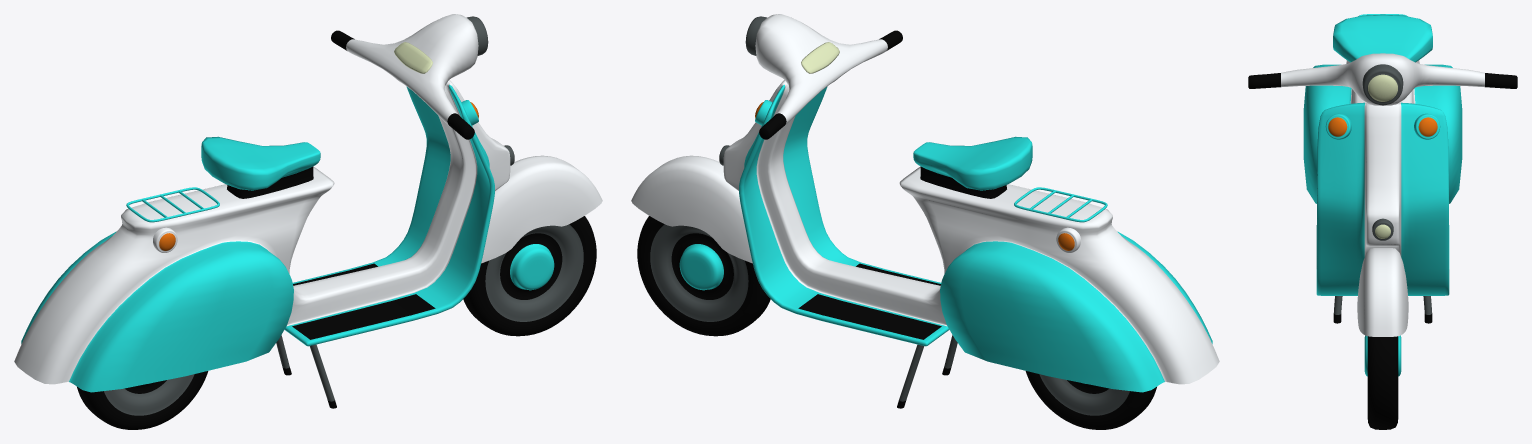
File: Scooter.fbx
The picture shows the model from 3 angles, left to right: view 1: azimuth 30°, elevation 25°; view 2: azimuth 150°, elevation 25°; view 3: azimuth 270°, elevation 25°; orthographic projection.
Visible parts, largest first — view 1: Scooter; view 2: Scooter; view 3: Scooter.
Part boxes in pixels (x1,y1,x2,y2): Scooter: [14, 14, 602, 429]; Scooter: [631, 14, 1219, 429]; Scooter: [1248, 14, 1517, 429].
Bounding box in the file's own units: 122 × 68.29 × 49.29.
